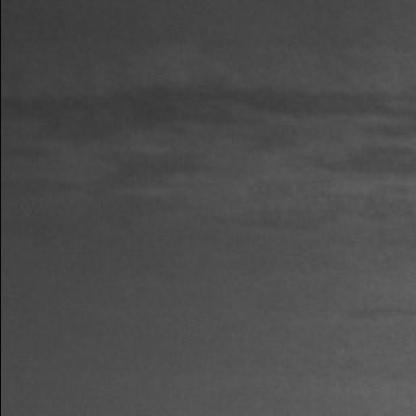inclusion: (8, 79, 416, 189)
